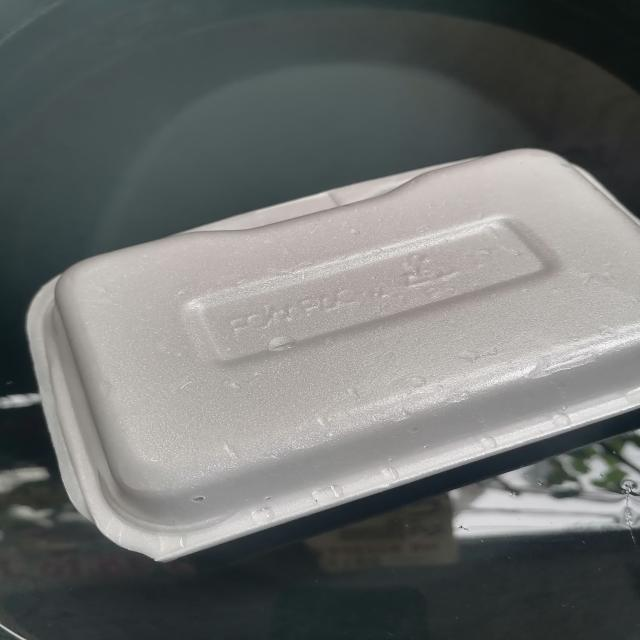Styrofoam Container: (27, 149, 640, 561)
